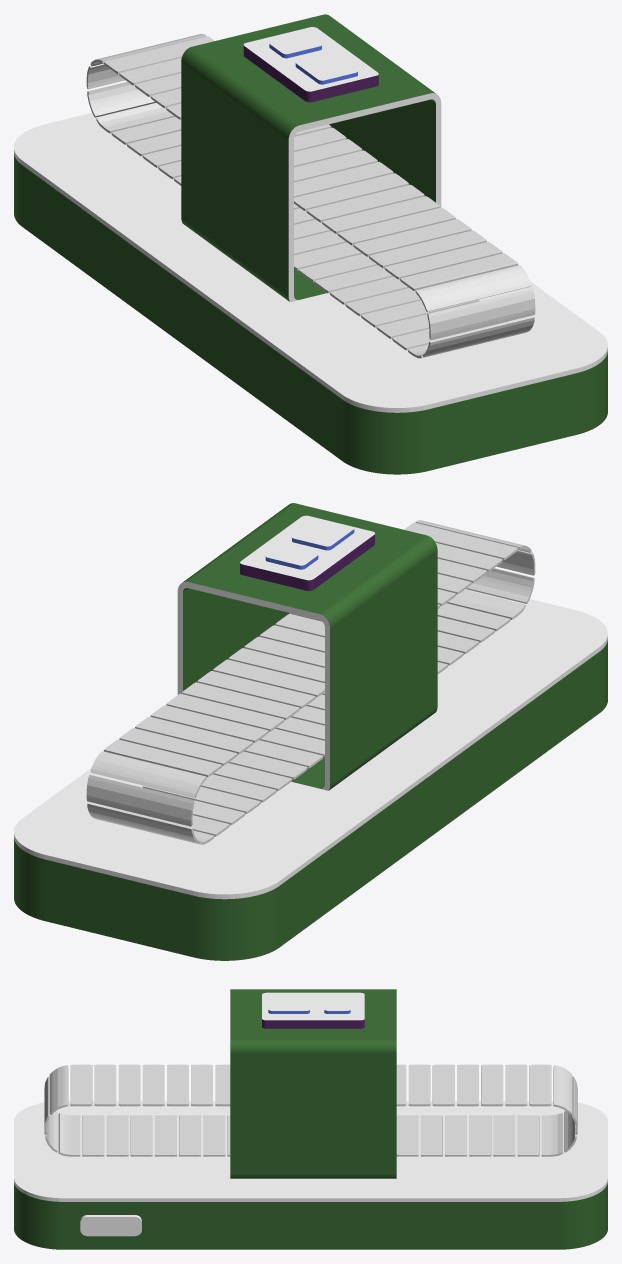
The model's file is machine.glb.
The picture shows the model from 3 angles, top to bottom: view 1: azimuth 30°, elevation 25°; view 2: azimuth 150°, elevation 25°; view 3: azimuth 270°, elevation 25°; orthographic projection. The views are drawn at different scales.
Parts seen in each view (by area): view 1: Cube, Cube.003; view 2: Cube, Cube.003; view 3: Cube, Cube.003.
Part boxes in pixels (box(x1,y1,x2,y2)): Cube: box(14, 14, 607, 474); Cube.003: box(86, 34, 535, 358); Cube: box(14, 503, 607, 960); Cube.003: box(86, 520, 535, 844); Cube: box(14, 989, 607, 1249); Cube.003: box(44, 1064, 577, 1156).
Size of the model in its own units: 2.04 by 1.9 by 5.16.
